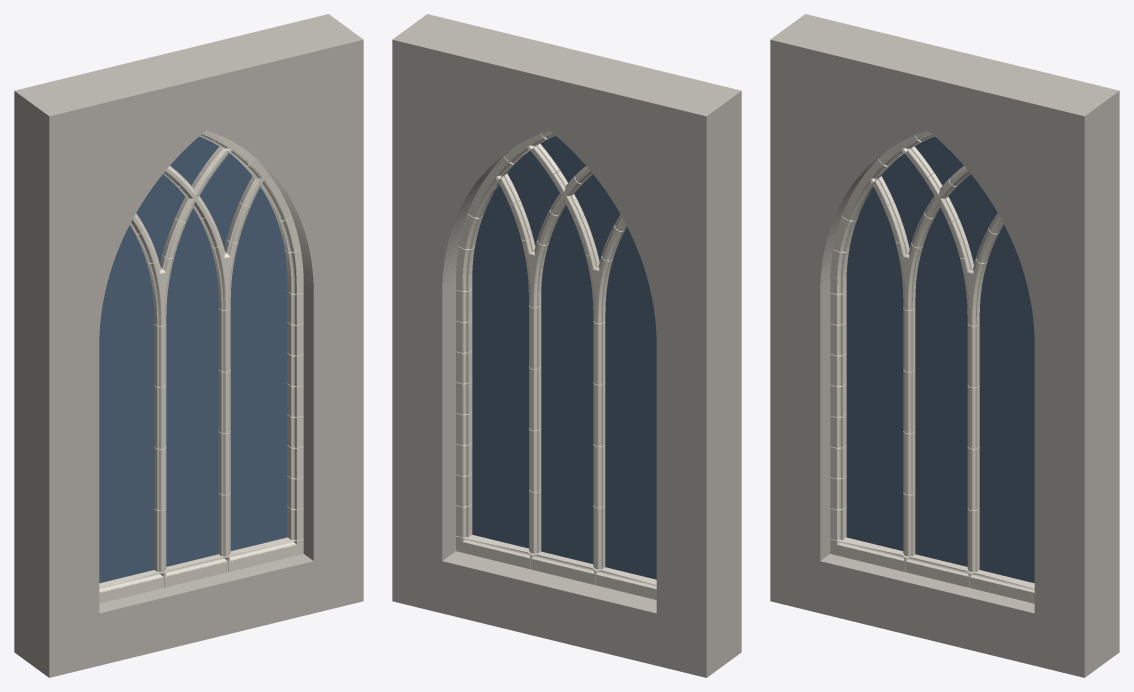
File: intersecting_3light.glb
3 views of the same model, side by side, from view 1: azimuth 30°, elevation 25°; view 2: azimuth 150°, elevation 25°; view 3: azimuth 330°, elevation 25° (orthographic).
Visible parts, largest first — view 1: intersecting_3light__wall, intersecting_3light__glass, intersecting_3light__stone_F029, intersecting_3light__stone_F027, intersecting_3light__stone_F028, intersecting_3light__stone_T011, intersecting_3light__stone_T010, intersecting_3light__stone_F006, intersecting_3light__stone_T003, intersecting_3light__stone_T015, intersecting_3light__stone_T019, intersecting_3light__stone_T012 (+16 smaller); view 2: intersecting_3light__wall, intersecting_3light__glass, intersecting_3light__stone_F029, intersecting_3light__stone_F028, intersecting_3light__stone_F027, intersecting_3light__stone_T011, intersecting_3light__stone_T010, intersecting_3light__stone_F006, intersecting_3light__stone_T003, intersecting_3light__stone_T017, intersecting_3light__stone_T013, intersecting_3light__stone_T014 (+15 smaller); view 3: intersecting_3light__wall, intersecting_3light__glass, intersecting_3light__stone_F027, intersecting_3light__stone_F029, intersecting_3light__stone_F028, intersecting_3light__stone_T010, intersecting_3light__stone_T011, intersecting_3light__stone_F005, intersecting_3light__stone_T003, intersecting_3light__stone_T014, intersecting_3light__stone_T018, intersecting_3light__stone_T012 (+16 smaller).
Boxes of the visible parts, x1=… form: intersecting_3light__wall: x1=14, y1=14, x2=363, y2=677; intersecting_3light__glass: x1=99, y1=136, x2=287, y2=583; intersecting_3light__stone_F029: x1=227, y1=537, x2=303, y2=571; intersecting_3light__stone_F027: x1=99, y1=570, x2=164, y2=603; intersecting_3light__stone_F028: x1=163, y1=554, x2=228, y2=587; intersecting_3light__stone_T011: x1=211, y1=239, x2=238, y2=310; intersecting_3light__stone_T010: x1=146, y1=255, x2=173, y2=325; intersecting_3light__stone_F006: x1=242, y1=159, x2=291, y2=221; intersecting_3light__stone_T003: x1=175, y1=173, x2=209, y2=222; intersecting_3light__stone_T015: x1=218, y1=370, x2=230, y2=433; intersecting_3light__stone_T019: x1=218, y1=493, x2=230, y2=556; intersecting_3light__stone_T012: x1=154, y1=324, x2=166, y2=387; intersecting_3light__wall: x1=392, y1=14, x2=741, y2=677; intersecting_3light__glass: x1=472, y1=135, x2=656, y2=579; intersecting_3light__stone_F029: x1=456, y1=534, x2=532, y2=569; intersecting_3light__stone_F028: x1=531, y1=551, x2=596, y2=584; intersecting_3light__stone_F027: x1=595, y1=567, x2=656, y2=599; intersecting_3light__stone_T011: x1=521, y1=237, x2=548, y2=307; intersecting_3light__stone_T010: x1=585, y1=252, x2=612, y2=323; intersecting_3light__stone_F006: x1=467, y1=156, x2=516, y2=218; intersecting_3light__stone_T003: x1=550, y1=170, x2=584, y2=219; intersecting_3light__stone_T017: x1=529, y1=428, x2=541, y2=492; intersecting_3light__stone_T013: x1=529, y1=305, x2=541, y2=369; intersecting_3light__stone_T014: x1=593, y1=383, x2=605, y2=446; intersecting_3light__wall: x1=770, y1=14, x2=1119, y2=677; intersecting_3light__glass: x1=846, y1=136, x2=1034, y2=583; intersecting_3light__stone_F027: x1=830, y1=537, x2=906, y2=571; intersecting_3light__stone_F029: x1=969, y1=570, x2=1034, y2=603; intersecting_3light__stone_F028: x1=905, y1=554, x2=970, y2=587; intersecting_3light__stone_T010: x1=895, y1=239, x2=922, y2=310; intersecting_3light__stone_T011: x1=960, y1=255, x2=987, y2=325; intersecting_3light__stone_F005: x1=842, y1=159, x2=891, y2=221; intersecting_3light__stone_T003: x1=924, y1=173, x2=958, y2=222; intersecting_3light__stone_T014: x1=903, y1=370, x2=915, y2=433; intersecting_3light__stone_T018: x1=903, y1=493, x2=915, y2=556; intersecting_3light__stone_T012: x1=903, y1=308, x2=915, y2=371.
Size of the model in its own units: 4400 by 7510 by 850.
